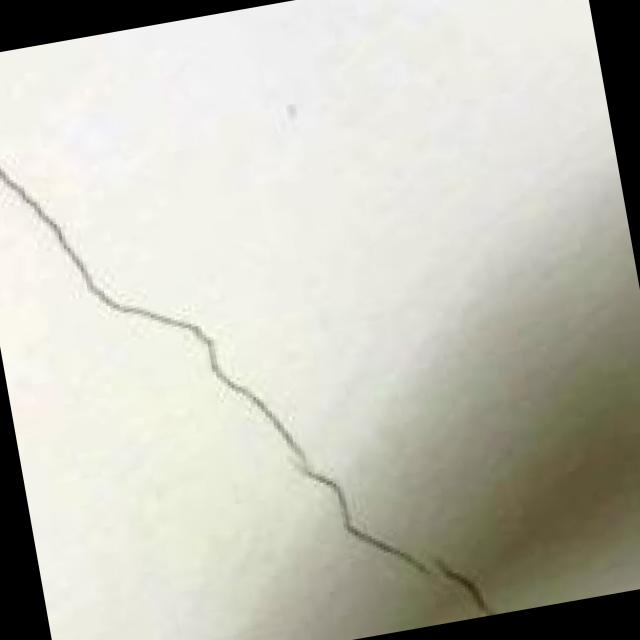crack: (0, 55, 551, 640)
